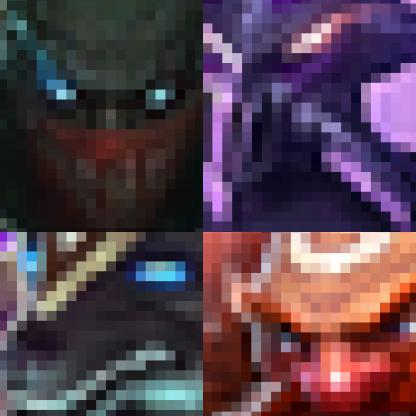Gragas: (203, 232, 415, 415)
Kassadin: (203, 0, 415, 231)
Nasus: (0, 232, 202, 415)
Pyke: (0, 0, 202, 231)
